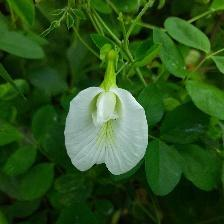shankupushpam: (62, 82, 151, 179)
